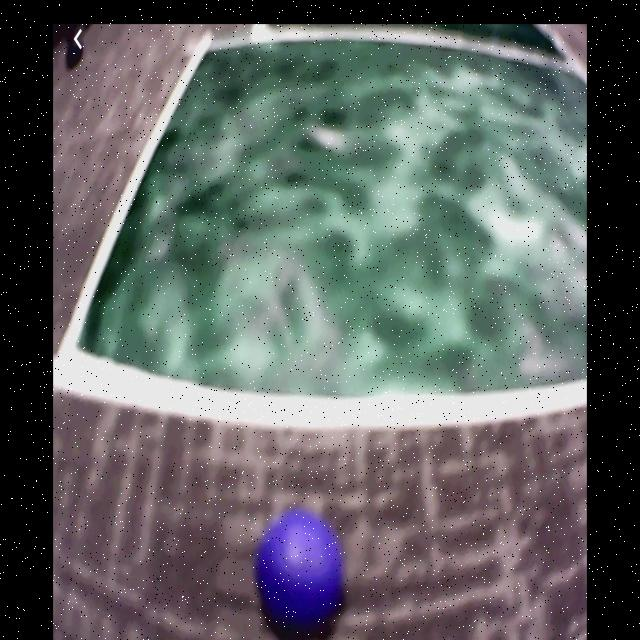ball: (255, 508, 344, 639)
